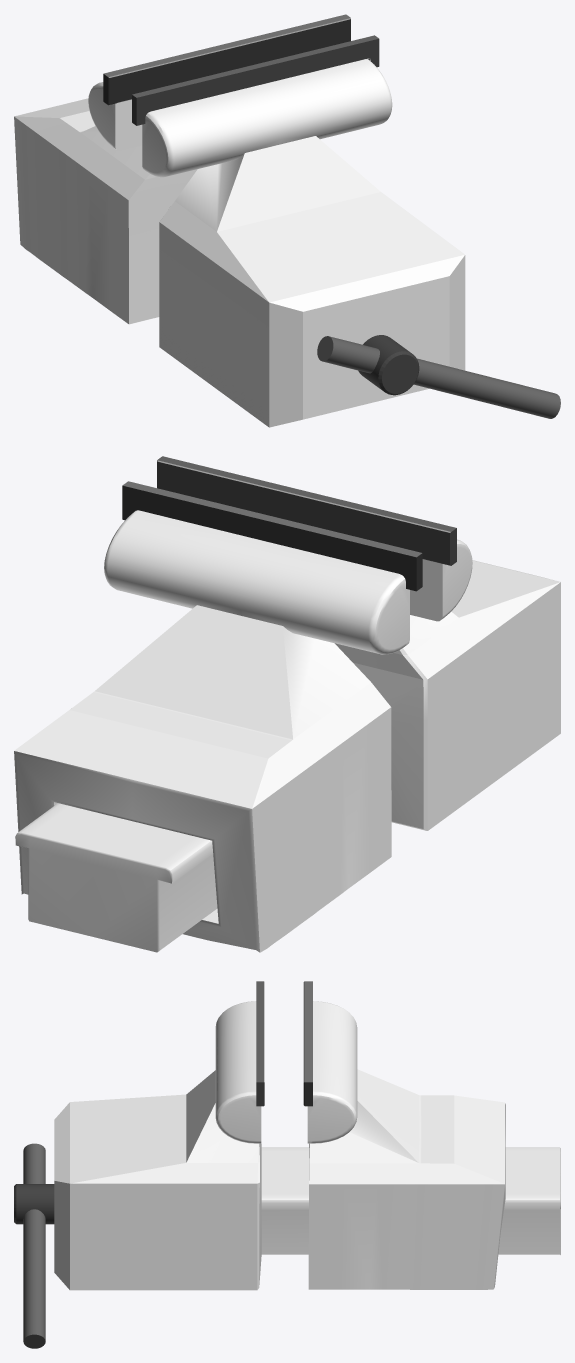
File: vice.fbx
The picture shows the model from 3 angles, top to bottom: view 1: azimuth 30°, elevation 25°; view 2: azimuth 150°, elevation 25°; view 3: azimuth 270°, elevation 25°; orthographic projection. The views are drawn at different scales.
Visible parts, largest first — view 1: pCylinder14; view 2: pCylinder14; view 3: pCylinder14.
Part boxes in pixels (<box>): pCylinder14: <box>14,14,560,427</box>; pCylinder14: <box>14,456,560,952</box>; pCylinder14: <box>14,981,560,1348</box>.
Size of the model in its own units: 11.29 by 10.88 by 21.54.
